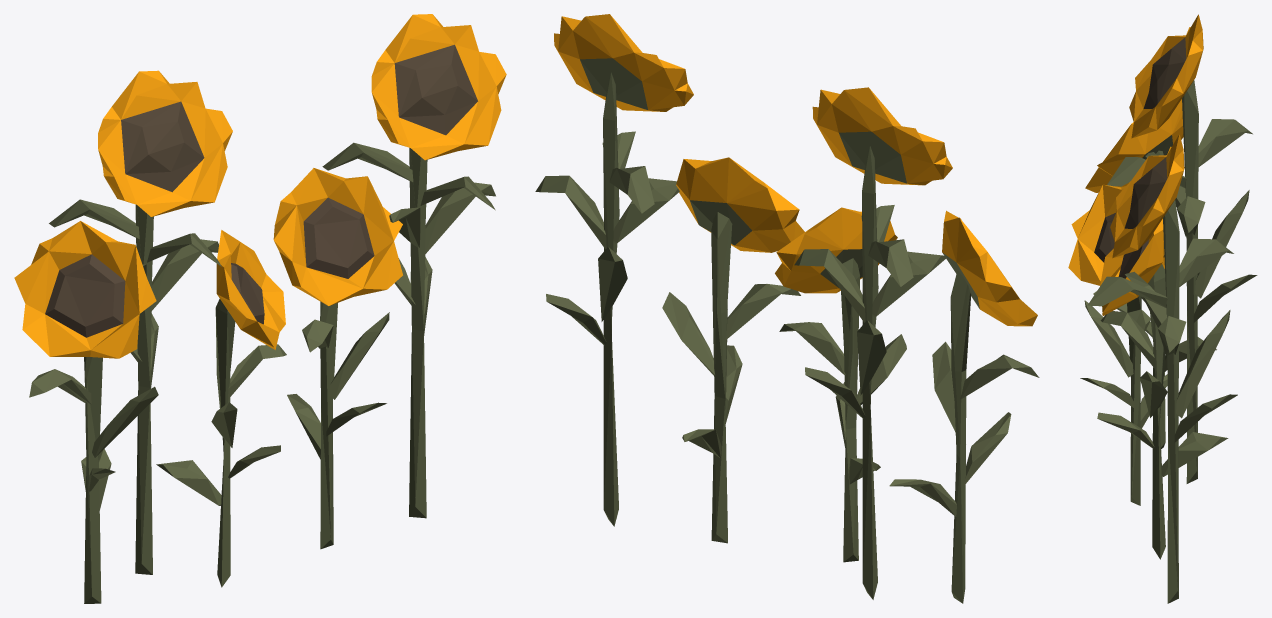
The model's file is Sunflowers.glb.
The picture shows the model from 3 angles, left to right: view 1: azimuth 30°, elevation 25°; view 2: azimuth 150°, elevation 25°; view 3: azimuth 270°, elevation 25°; orthographic projection. The views are drawn at different scales.
Visible parts, largest first — view 1: SM_Env_Sunflower_03, SM_Env_Sunflower_02, SM_Env_Sunflower_01; view 2: SM_Env_Sunflower_03, SM_Env_Sunflower_02, SM_Env_Sunflower_01; view 3: SM_Env_Sunflower_03, SM_Env_Sunflower_02, SM_Env_Sunflower_01.
Boxes of the visible parts, bbox=[...] form: SM_Env_Sunflower_03: bbox=[14, 70, 286, 603]; SM_Env_Sunflower_02: bbox=[322, 14, 506, 518]; SM_Env_Sunflower_01: bbox=[273, 168, 402, 549]; SM_Env_Sunflower_03: bbox=[775, 87, 1039, 603]; SM_Env_Sunflower_02: bbox=[535, 14, 693, 526]; SM_Env_Sunflower_01: bbox=[662, 157, 804, 543]; SM_Env_Sunflower_03: bbox=[1068, 14, 1257, 505]; SM_Env_Sunflower_02: bbox=[1087, 134, 1237, 603]; SM_Env_Sunflower_01: bbox=[1097, 219, 1228, 559].
Bounding box in the file's own units: 2.61 × 2.59 × 0.9534.
3 materials, 3 textured.
